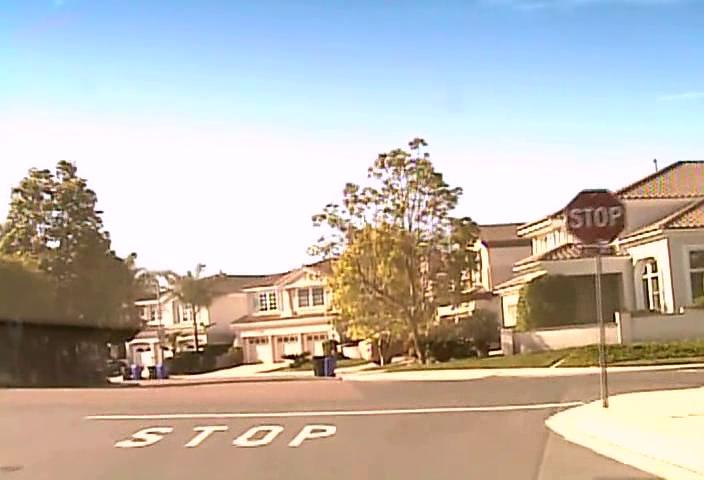stop: (564, 188, 626, 244)
